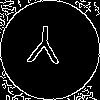Y: (25, 25, 62, 73)
